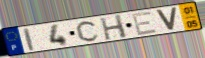4: (47, 23, 70, 47)
C: (75, 20, 102, 43)
E: (131, 10, 159, 36)
H: (99, 13, 130, 41)
I: (21, 26, 36, 52)
V: (154, 7, 179, 32)
